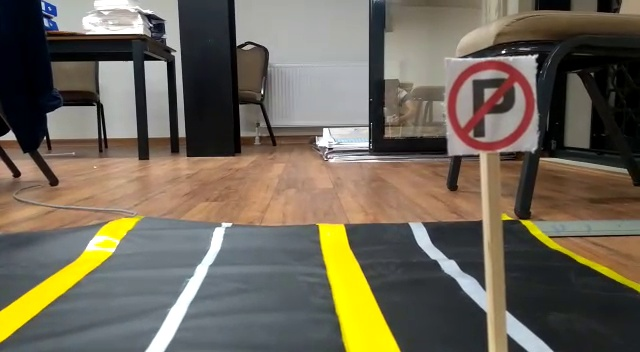park_yapilmaz: (446, 58, 536, 153)
